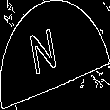N_S: (38, 25, 72, 85)
